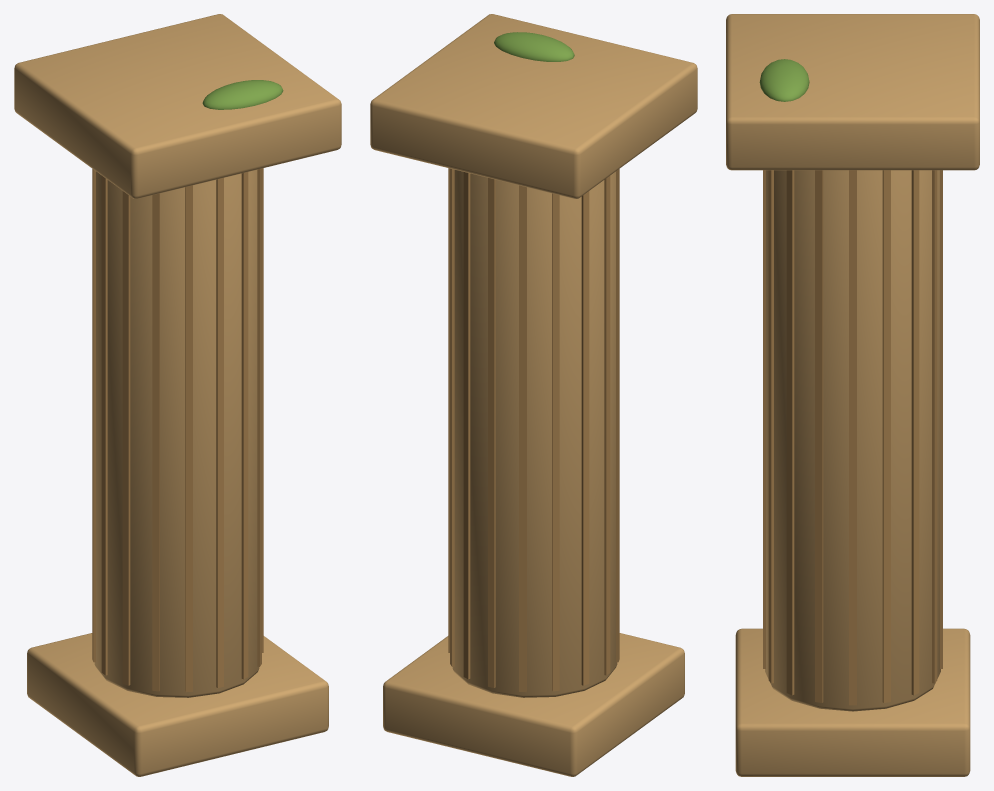
The model's file is pilar.glb.
3 renders of one model, left to right at view 1: azimuth 30°, elevation 25°; view 2: azimuth 150°, elevation 25°; view 3: azimuth 270°, elevation 25°, orthographic. The views are drawn at different scales.
Parts seen in each view (by area): view 1: Cylinder, Cube.017, Cube, Cube.010, Cube.013, Cube.012, Cube.014, Cube.011, Cube.009, Cube.015, Cube.008, Sphere (+1 smaller); view 2: Cylinder, Cube.017, Cube, Cube.008, Cube.005, Cube.004, Cube.006, Cube.007, Cube.009, Cube.003, Cube.010, Sphere (+1 smaller); view 3: Cylinder, Cube.017, Cube, Cube.002, Cube.016, Cube.003, Cube.015, Cube.001, Cube.004, Cube.014, Sphere, Cube.005 (+1 smaller).
Boxes of the visible parts, box(x1,y1,x2,y2) form: Cylinder: box(94, 170, 259, 697); Cube.017: box(14, 14, 341, 198); Cube: box(27, 633, 328, 776); Cube.010: box(122, 191, 130, 685); Cube.013: box(216, 178, 223, 687); Cube.012: box(185, 185, 192, 692); Cube.014: box(241, 172, 248, 679); Cube.011: box(152, 193, 159, 691); Cube.009: box(101, 176, 107, 675); Cube.015: box(257, 168, 261, 666); Cube.008: box(92, 169, 95, 662); Sphere: box(202, 80, 283, 109); Cylinder: box(452, 170, 617, 697); Cube.017: box(370, 14, 697, 198); Cube: box(383, 633, 684, 776); Cube.008: box(581, 191, 589, 685); Cube.005: box(488, 178, 495, 687); Cube.004: box(463, 172, 470, 679); Cube.006: box(519, 185, 526, 692); Cube.007: box(552, 193, 559, 691); Cube.009: box(604, 176, 610, 675); Cube.003: box(450, 168, 454, 666); Cube.010: box(616, 169, 619, 662); Sphere: box(494, 32, 574, 61); Cylinder: box(765, 170, 940, 711); Cube.017: box(726, 14, 979, 170); Cube: box(735, 628, 970, 776); Cube.002: box(882, 170, 890, 702); Cube.016: box(815, 170, 823, 702); Cube.003: box(911, 170, 919, 695); Cube.015: box(786, 170, 794, 695); Cube.001: box(849, 170, 856, 705); Cube.004: box(932, 170, 937, 683); Cube.014: box(768, 170, 773, 683); Sphere: box(759, 59, 809, 101); Cube.005: box(940, 170, 942, 668).
Size of the model in its own units: 2.6 by 7.64 by 2.6.
